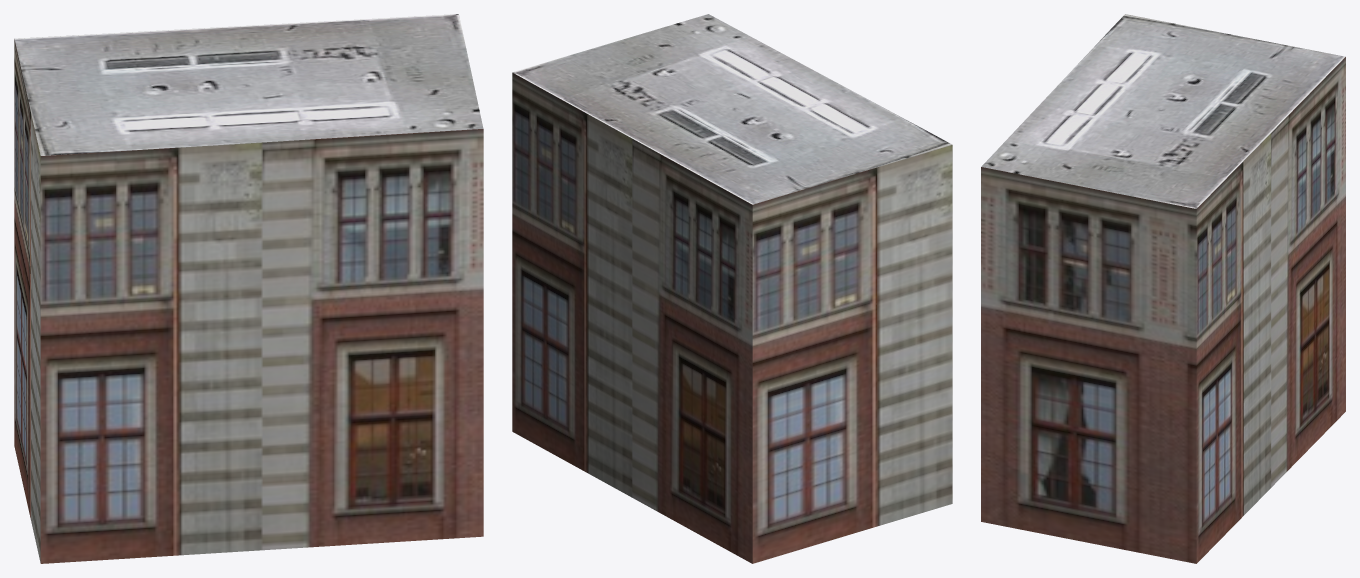
File: EduTex__14.fbx
3 views of the same model, side by side, from view 1: azimuth 30°, elevation 25°; view 2: azimuth 150°, elevation 25°; view 3: azimuth 270°, elevation 25° (orthographic). The views are drawn at different scales.
Visible parts, largest first — view 1: CityEngineMaterial_17_m, CityEngineMaterial_10_m; view 2: CityEngineMaterial_17_m, CityEngineMaterial_10_m; view 3: CityEngineMaterial_17_m, CityEngineMaterial_10_m.
Part boxes in pixels (bbox=[...]): CityEngineMaterial_17_m: bbox=[14, 39, 483, 563]; CityEngineMaterial_10_m: bbox=[14, 14, 483, 155]; CityEngineMaterial_17_m: bbox=[512, 72, 952, 563]; CityEngineMaterial_10_m: bbox=[512, 14, 952, 204]; CityEngineMaterial_17_m: bbox=[981, 57, 1345, 563]; CityEngineMaterial_10_m: bbox=[981, 14, 1345, 208].
Size of the model in its own units: 7.07 by 6 by 5.59.
2 materials, 2 textured.
